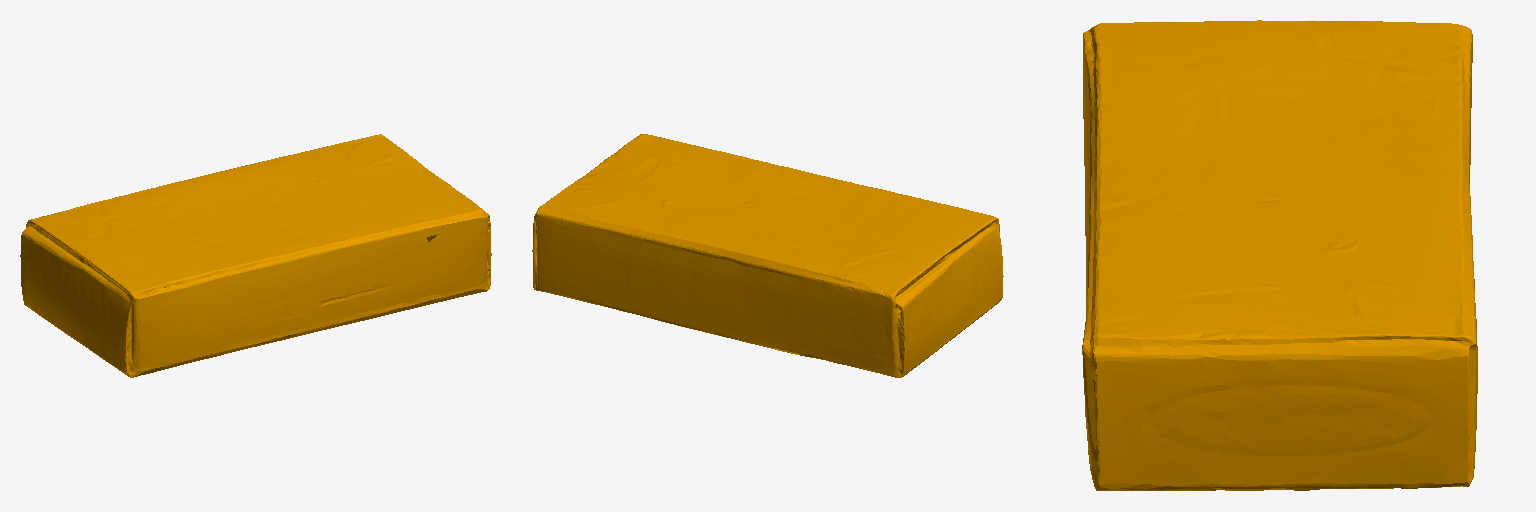
robot.urdf — butter:
<?xml version="1.0"?>
<!-- GENERATED by tasks/libero/build_env/build_object_urdf.py. Do not hand edit.

     LIBERO object `butter`, spawnable by the TRO-MP env.
     Role: graspable target object (envs/), one of the 22 LIBERO target assets.

     WHY a URDF when envs/butter/ may also hold a USD: this env spawns objects
     only through `assets.object_urdf` (scene_utils.py:1929, which calls
     _convert_urdf_to_usd at :1964). The assets dataclass declares no USD field,
     so a ready-made USD cannot be handed to this code path.

     Mesh coordinates are PRESERVED, not re-centred: 11 of 22 LIBERO envs have
     their mesh origin at the object's base, and `goal_traj` tracks that origin.
     Re-centring would offset the object from its own trajectory every frame.

     Mass: density 800.0 kg/m^3 x mesh volume 5.056239e-05 m^3
     Inertia: solid-box approximation about the COM at that mass, NOT the true
     mesh inertia tensor. Adequate for a graspable tabletop object; revisit if
     spin dynamics matter.

     Collision: the full mesh, decomposed by Isaac's URDF importer. The convex
     decomposition authored in the DexVerse USD is NOT reproduced here.
-->
<robot name="butter">
  <link name="butter">
    <inertial>
      <origin xyz="0.000147 0.000258 -0.000023" rpy="0 0 0"/>
      <mass value="0.040450"/>
      <inertia ixx="6.377633e-06" ixy="0" ixz="0" iyy="2.131985e-05" iyz="0" izz="2.552477e-05"/>
    </inertial>
    <visual>
      <origin xyz="0 0 0" rpy="0 0 0"/>
      <geometry><mesh filename="butter.obj" scale="1 1 1"/></geometry>
    </visual>
    <collision>
      <origin xyz="0 0 0" rpy="0 0 0"/>
      <geometry><mesh filename="butter.obj" scale="1 1 1"/></geometry>
    </collision>
  </link>
</robot>

--- Facts derived from the render (not from the file) ---
Views: 3 orthographic renders of the robot side by side, from view 1: azimuth 30°, elevation 25°; view 2: azimuth 150°, elevation 25°; view 3: azimuth 270°, elevation 25°.
Model butter with 1 links and 0 joints (none), rooted at butter, posed all joints at 0.
Links seen in each view (by area): view 1: butter; view 2: butter; view 3: butter.
Link boxes in pixels (left/top/right/bottom): butter: left=20, top=134, right=491, bottom=377; butter: left=532, top=134, right=1003, bottom=377; butter: left=1082, top=20, right=1477, bottom=490.
Bounding box of the posed robot: 0.0775 × 0.0396 × 0.018 m (x, y, z).
Meshes: 1 distinct files referenced, 1 mesh visuals loaded (1 OBJ).
